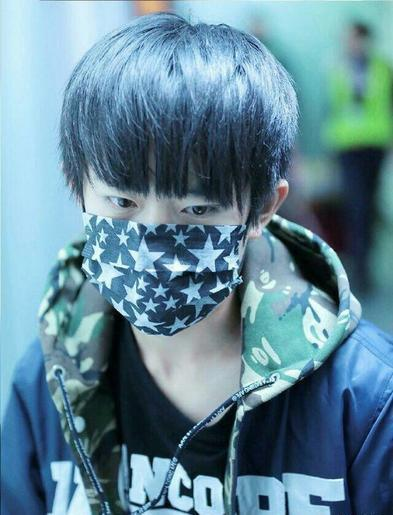OK: (88, 162, 259, 333)
